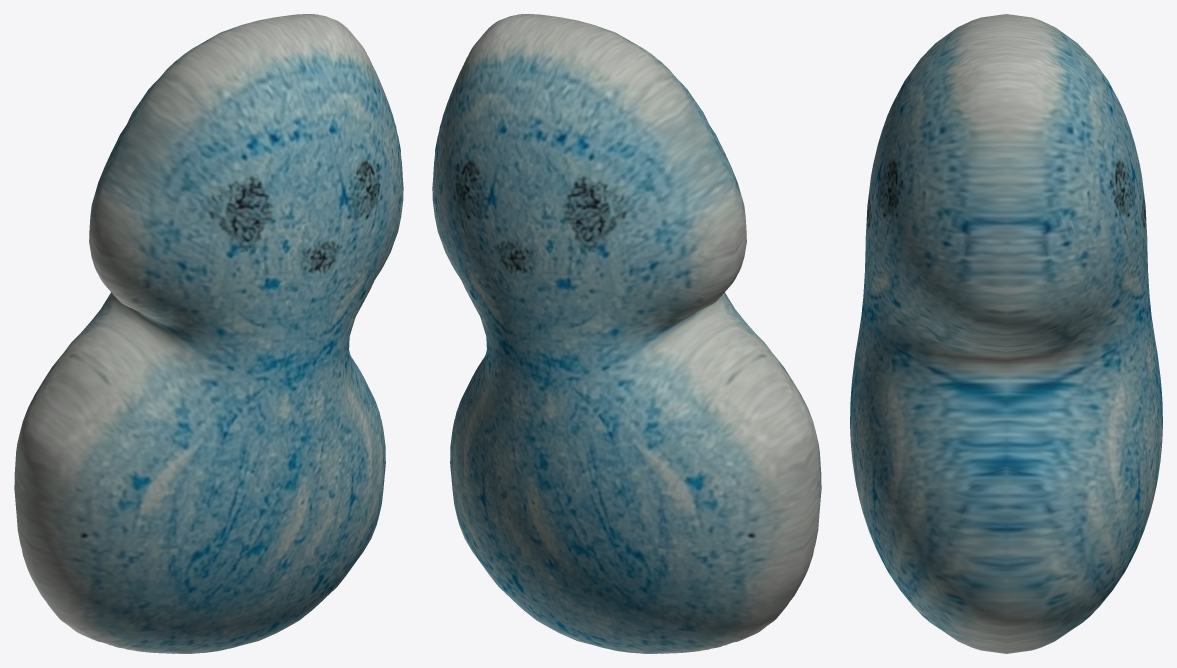
File: 김미경_눈사람.glb
The picture shows the model from 3 angles, left to right: view 1: azimuth 30°, elevation 25°; view 2: azimuth 150°, elevation 25°; view 3: azimuth 270°, elevation 25°; orthographic projection. The views are drawn at different scales.
Size of the model in its own units: 2.75 by 4.35 by 1.95.
1 material, 1 textured.
